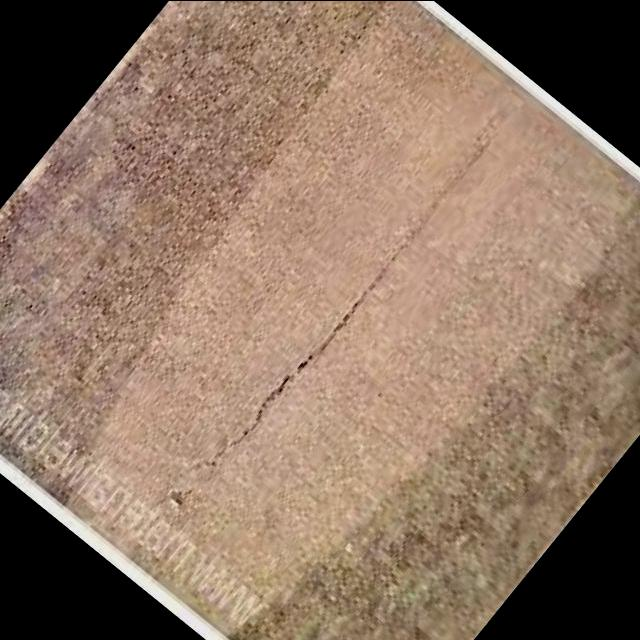defect: (177, 126, 495, 474)
